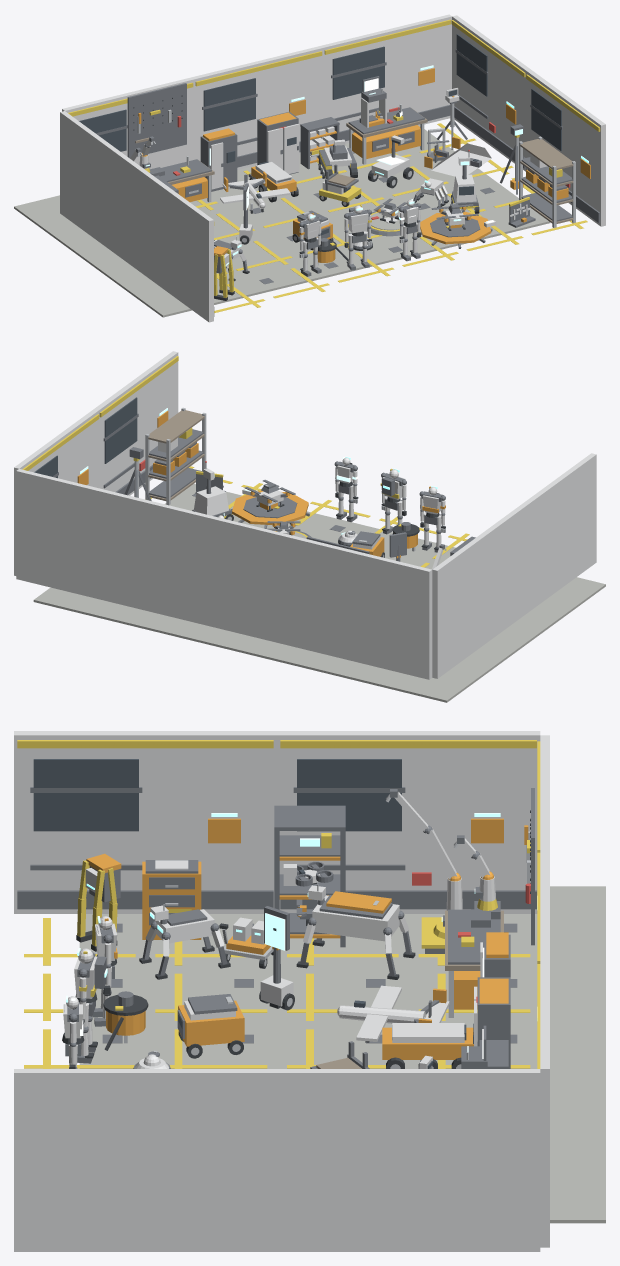
3 views of the same model, one above another, from view 1: azimuth 30°, elevation 25°; view 2: azimuth 150°, elevation 25°; view 3: azimuth 270°, elevation 25° (orthographic). The views are drawn at different scales.
Parts seen in each view (by area): view 1: 030-workshop-wall-panel/0, 028-workshop-wall-panel/0, 026-workshop-wall-panel/0, 025-workshop-wall-panel/0, 027-workshop-wall-panel/0, 029-workshop-wall-panel/0, 051-tool-wall-panel/0, 024-workshop-wall-panel/0, 025-workshop-wall-panel/2, 026-workshop-wall-panel/2, 010-workshop-floor-tile/0, 011-workshop-floor-tile/0 (+52 smaller); view 2: 024-workshop-wall-panel/0, 025-workshop-wall-panel/0, 026-workshop-wall-panel/0, 028-workshop-wall-panel/0, 030-workshop-wall-panel/0, 029-workshop-wall-panel/0, 027-workshop-wall-panel/0, 000-workshop-floor-tile/0, 070-robot-shelf-rack/1, 070-robot-shelf-rack/2, 029-workshop-wall-panel/2, 016-workshop-floor-tile/0 (+22 smaller); view 3: 027-workshop-wall-panel/0, 029-workshop-wall-panel/0, 030-workshop-wall-panel/0, 028-workshop-wall-panel/0, 030-workshop-wall-panel/2, 028-workshop-wall-panel/2, 044-drone-rack-tower/0, 010-workshop-floor-tile/0, 008-workshop-floor-tile/0, 004-workshop-floor-tile/0, 006-workshop-floor-tile/0, 030-workshop-wall-panel/1 (+49 smaller).
Boxes of the visible parts, x1,y1,x2,y2 form: 030-workshop-wall-panel/0: (134, 165, 213, 322); 028-workshop-wall-panel/0: (60, 111, 138, 267); 026-workshop-wall-panel/0: (321, 14, 451, 143); 025-workshop-wall-panel/0: (191, 46, 322, 169); 027-workshop-wall-panel/0: (452, 15, 530, 171); 029-workshop-wall-panel/0: (526, 70, 605, 226); 051-tool-wall-panel/0: (127, 83, 186, 158); 024-workshop-wall-panel/0: (62, 77, 193, 169); 025-workshop-wall-panel/2: (203, 78, 255, 131); 026-workshop-wall-panel/2: (332, 46, 384, 99); 010-workshop-floor-tile/0: (218, 214, 303, 256); 011-workshop-floor-tile/0: (255, 246, 356, 285); 024-workshop-wall-panel/0: (291, 536, 432, 679); 025-workshop-wall-panel/0: (154, 502, 293, 646); 026-workshop-wall-panel/0: (16, 469, 156, 612); 028-workshop-wall-panel/0: (432, 511, 516, 678); 030-workshop-wall-panel/0: (512, 453, 596, 620); 029-workshop-wall-panel/0: (94, 351, 178, 495); 027-workshop-wall-panel/0: (14, 409, 98, 575); 000-workshop-floor-tile/0: (378, 664, 486, 702); 070-robot-shelf-rack/1: (148, 410, 204, 500); 070-robot-shelf-rack/2: (149, 429, 203, 498); 029-workshop-wall-panel/2: (104, 397, 137, 463); 016-workshop-floor-tile/0: (102, 604, 187, 635); 027-workshop-wall-panel/0: (277, 1069, 540, 1251); 029-workshop-wall-panel/0: (14, 1069, 276, 1251); 030-workshop-wall-panel/0: (14, 731, 276, 913); 028-workshop-wall-panel/0: (277, 731, 540, 913); 030-workshop-wall-panel/2: (33, 759, 138, 831); 028-workshop-wall-panel/2: (297, 759, 401, 831); 044-drone-rack-tower/0: (274, 805, 345, 947); 010-workshop-floor-tile/0: (211, 997, 342, 1052); 008-workshop-floor-tile/0: (477, 997, 605, 1052); 004-workshop-floor-tile/0: (510, 942, 605, 997); 006-workshop-floor-tile/0: (211, 942, 342, 997); 030-workshop-wall-panel/1: (17, 787, 273, 909).
Size of the model in its own units: 13.15 by 3.06 by 9.
